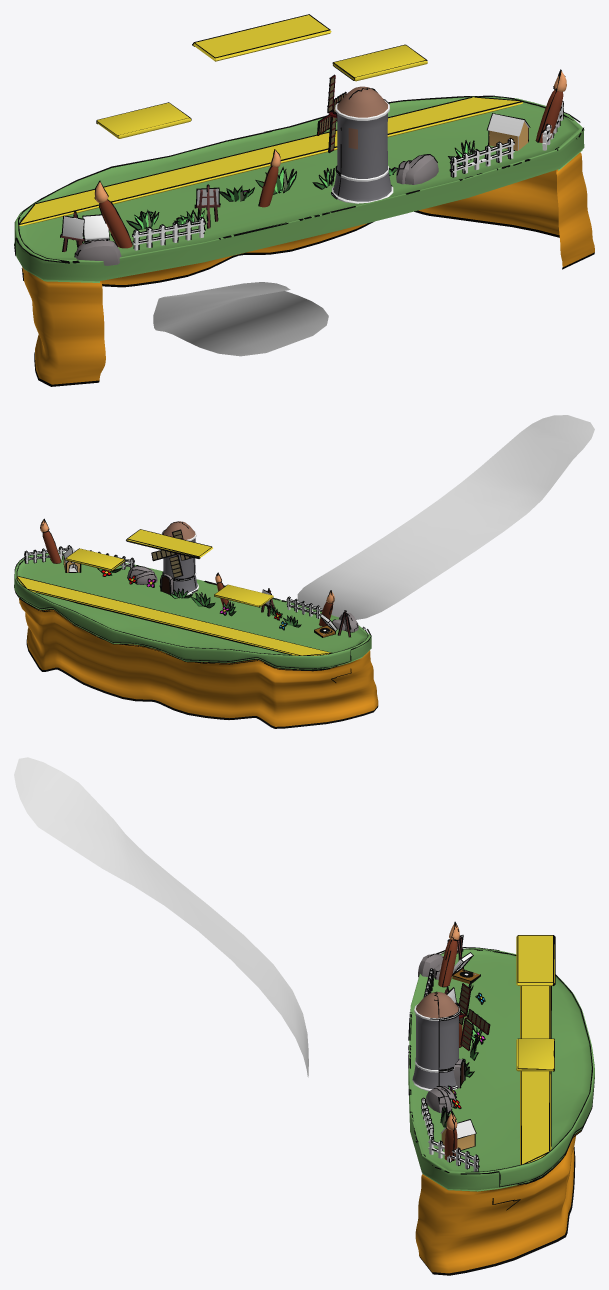
File: Fighter (2).fbx
3 views of the same model, one above another, from view 1: azimuth 30°, elevation 25°; view 2: azimuth 150°, elevation 25°; view 3: azimuth 270°, elevation 25° (orthographic). The views are drawn at different scales.
Visible parts, largest first — view 1: Plane.013, Plane.004, Plane.010, Cube.007, Cube.011, Cube.002, Cube.004, Cube.003, Plane, Plane.009, Cube.014, Plane.007 (+8 smaller); view 2: Plane.013, Plane.010, Plane.004, Cube.007, Cube.011, Cube.002, Cube.004, Cube.003, Cube.012; view 3: Plane.013, Plane.010, Plane.004, Cube.007, Cube.011, Cube.002, Cube.003, Cube.012, Plane.009.
Boxes of the visible parts, box(x1,y1,x2,y2) form: Plane.013: box(14, 96, 594, 384); Plane.004: box(14, 14, 594, 386); Plane.010: box(153, 282, 328, 356); Cube.007: box(19, 97, 522, 225); Cube.011: box(331, 86, 393, 203); Cube.002: box(193, 15, 331, 61); Cube.004: box(97, 103, 191, 138); Cube.003: box(333, 45, 427, 81); Plane: box(488, 113, 529, 150); Plane.009: box(94, 182, 132, 248); Cube.014: box(75, 239, 121, 265); Plane.007: box(132, 218, 205, 250); Plane.013: box(14, 552, 378, 726); Plane.010: box(297, 415, 594, 619); Plane.004: box(14, 518, 378, 728); Cube.007: box(17, 576, 330, 655); Cube.011: box(161, 521, 198, 594); Cube.002: box(127, 529, 212, 557); Cube.004: box(214, 584, 273, 606); Cube.003: box(66, 548, 124, 570); Cube.012: box(151, 529, 192, 578); Plane.013: box(408, 948, 594, 1273); Plane.010: box(14, 757, 308, 1077); Plane.004: box(408, 921, 594, 1275); Cube.007: box(520, 986, 551, 1164); Cube.011: box(412, 992, 464, 1091); Cube.002: box(516, 935, 554, 985); Cube.003: box(516, 1039, 554, 1071); Cube.012: box(458, 983, 490, 1050); Plane.009: box(438, 924, 459, 986).
Size of the model in its own units: 1679 by 741 by 1521.
